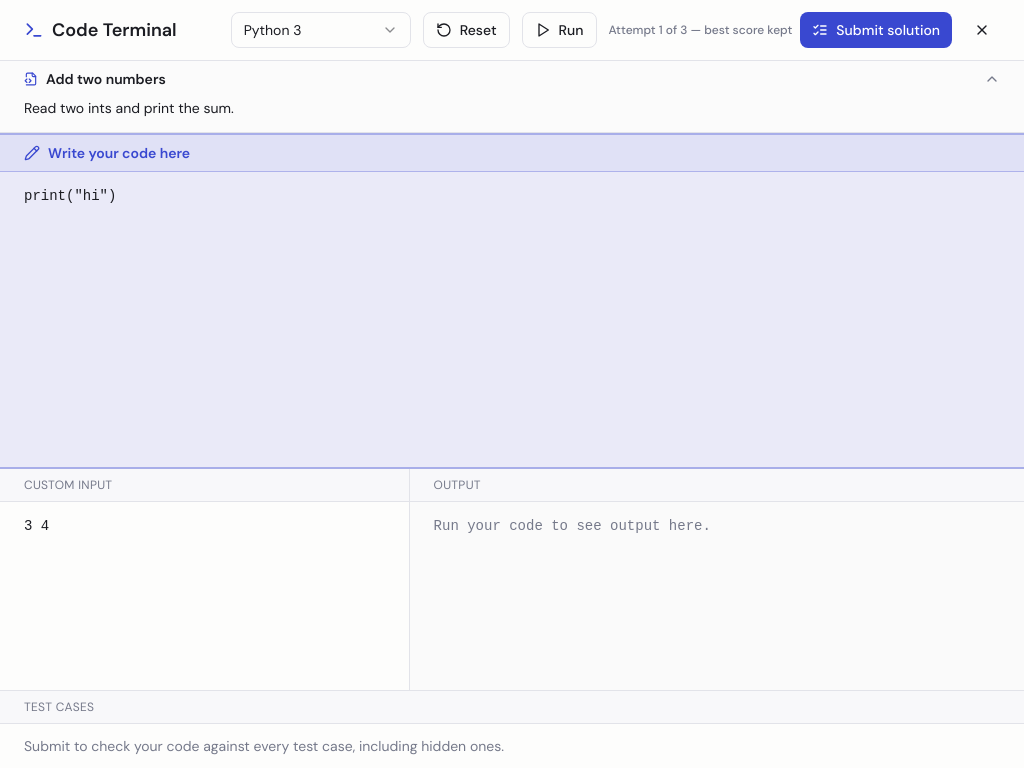
CodingTerminalWidget review at cap › shows best attempt and correct solution after the cap
Click the button "Submit solution".
click(876, 30)  # box [800,12,952,48]
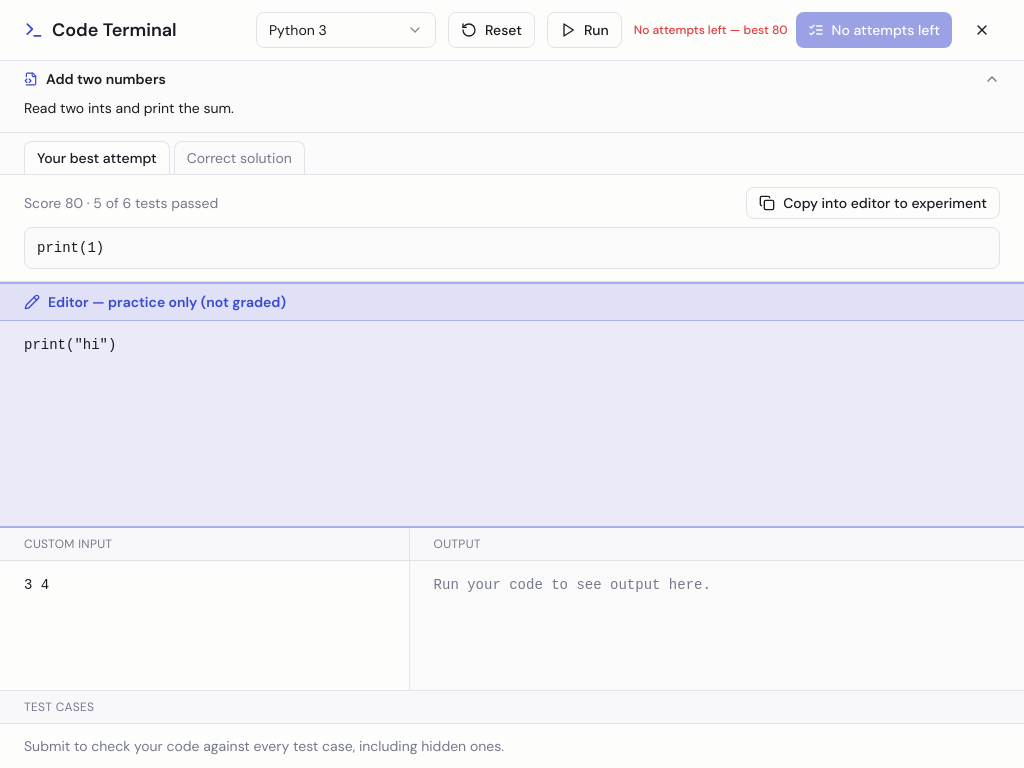
Expected: the tab "Your best attempt" is shown, [24,141,170,174]
Expected: the text "print(1)" is shown, [24,227,1000,269]
Expected: the text "Score 80 · 5 of 6 tests passed" is shown, [24,193,218,213]
Click the tab "Correct solution".
click(239, 157)  # box [174,141,305,174]
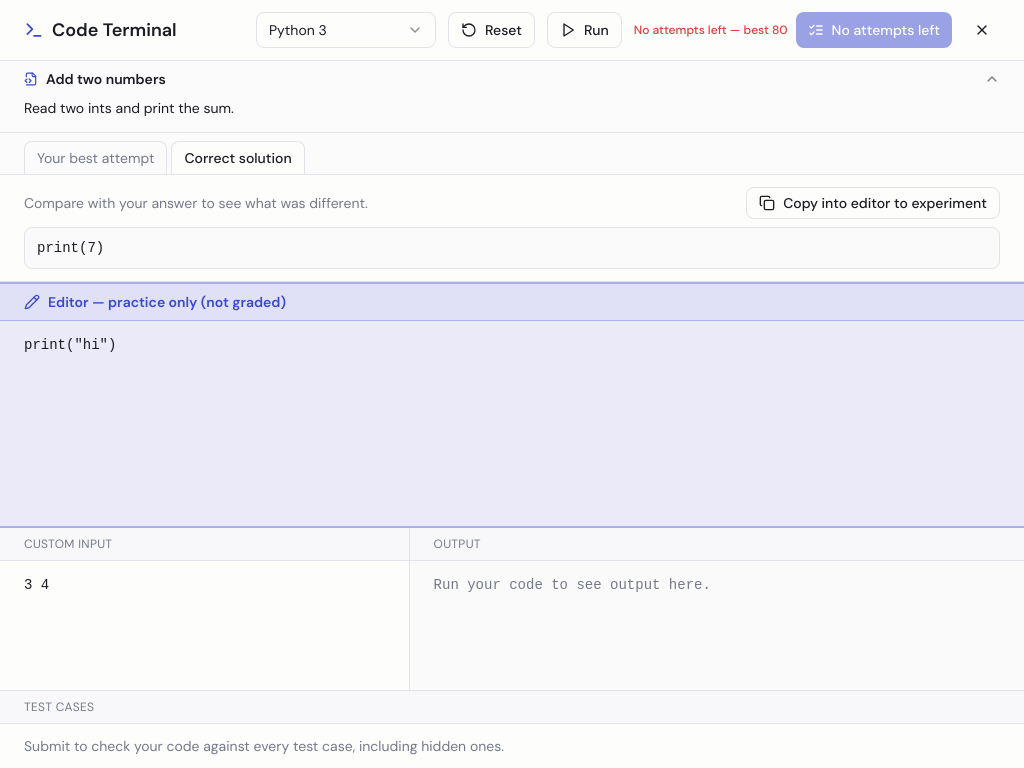
Expected: the text "print(7)" is shown, [24,227,1000,269]
